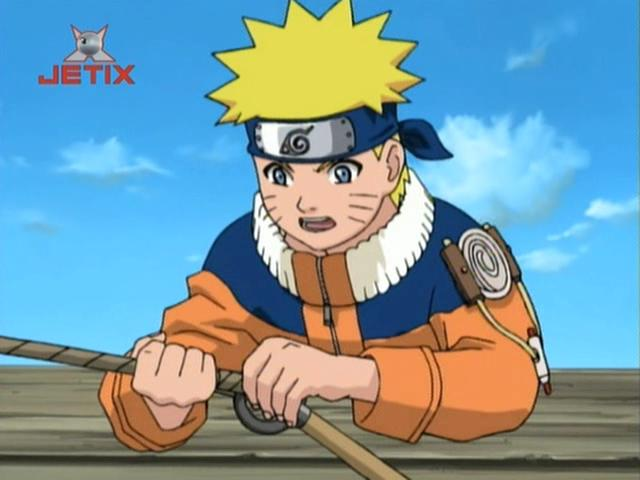naruto: (237, 102, 409, 255)
